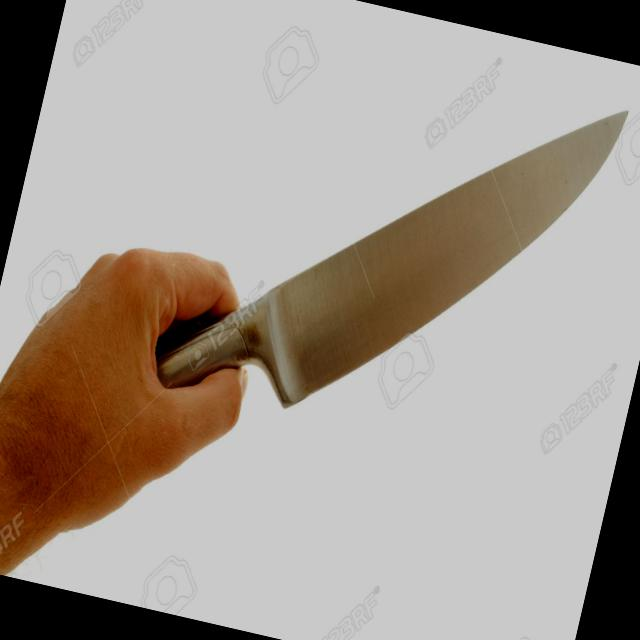knife: (78, 0, 638, 512)
